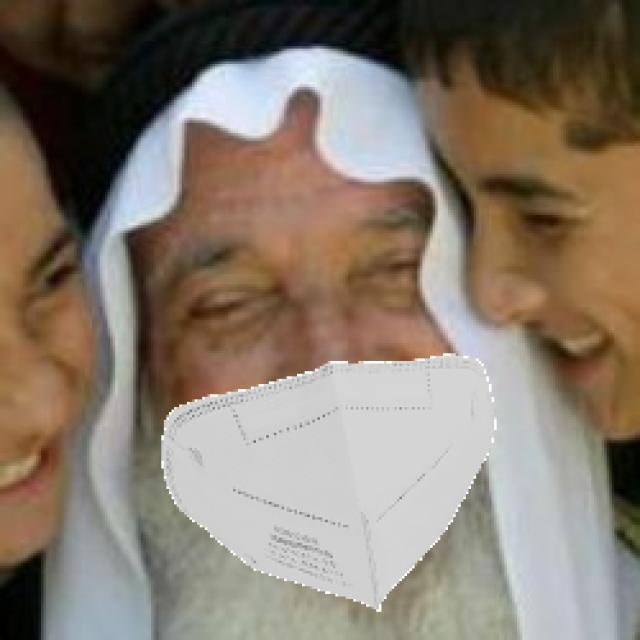kn95: (138, 152, 482, 628)
